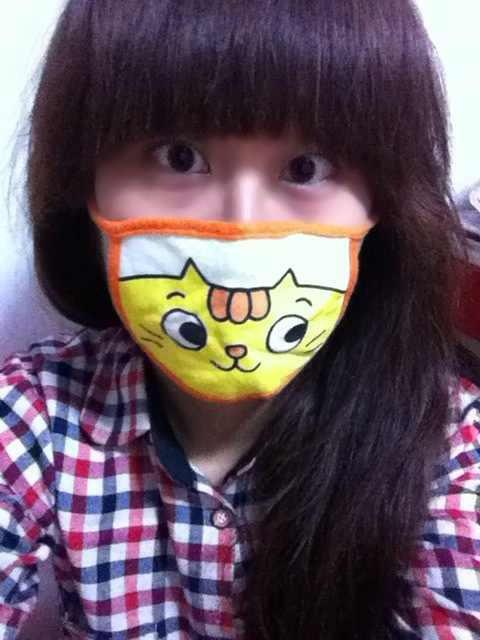OK: (95, 106, 380, 395)
